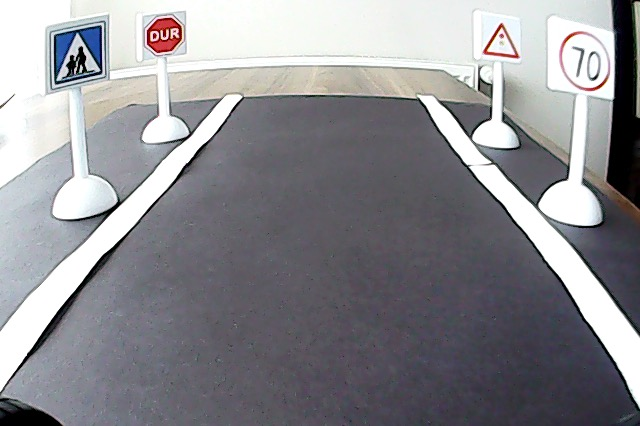red light: (480, 15, 520, 62)
school crossing: (45, 28, 107, 84)
speed limit 70: (554, 24, 614, 94)
stop sign: (140, 16, 186, 56)
